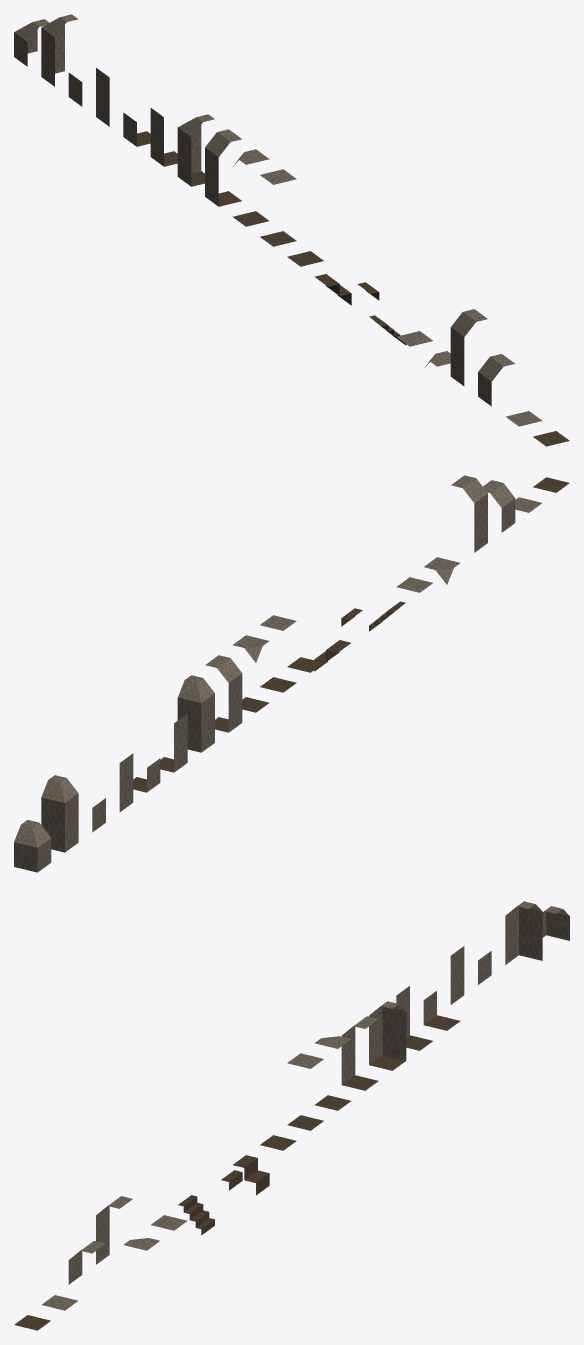
Rendered from tiles.glb.
3 views of the same model, one above another, from view 1: azimuth 30°, elevation 25°; view 2: azimuth 150°, elevation 25°; view 3: azimuth 330°, elevation 25° (orthographic).
Parts seen in each view (by area): view 1: corner-col, corner-col.001, wall&ceiling-col, wall&ceiling-col.002, wall-col, corner-col.002, wall&ceiling-col.003, wallonly-col, floor&ceiling-col, floor&ceilingcorner-col, shortwall-col; view 2: corner-col.001, corner-col, corner-col.002, wall&ceiling-col, wall&ceiling-col.002, wall-col, wall&ceiling-col.003, wallonly-col, floor&ceilingcorner-col, floor&ceiling-col, shortwall-col; view 3: corner-col, corner-col.001, wall&ceiling-col, wall&ceiling-col.002, corner-col.002, wallonly-col, stair3-col, shortwall-col, stair2-col, floor&ceiling-col, floor&ceilingcorner-col, wall-col (+1 smaller).
Boxes of the visible parts, x1,y1,x2,y2 form: corner-col: (177,114,214,186); corner-col.001: (41,14,77,86); wall&ceiling-col: (205,129,241,206); wall&ceiling-col.002: (450,309,487,386); wall-col: (150,108,177,166); corner-col.002: (14,19,49,66); wall&ceiling-col.003: (478,354,514,406); wallonly-col: (96,68,109,126); floor&ceiling-col: (260,169,296,246); floor&ceilingcorner-col: (232,149,269,226); shortwall-col: (123,112,150,146); corner-col.001: (41,775,78,852); corner-col: (177,675,214,752); corner-col.002: (14,820,51,872); wall&ceiling-col: (205,655,242,732); wall&ceiling-col.002: (451,475,487,552); wall-col: (160,713,187,772); wall&ceiling-col.003: (483,480,515,532); wallonly-col: (119,753,133,812); floor&ceilingcorner-col: (232,635,269,712); floor&ceiling-col: (260,615,296,692); shortwall-col: (133,758,160,792); corner-col: (369,1001,406,1070); corner-col.001: (505,901,542,964); wall&ceiling-col: (341,1016,378,1090); wall&ceiling-col.002: (96,1196,132,1264); corner-col.002: (542,906,569,940); wallonly-col: (450,946,464,1004); stair3-col: (178,1195,214,1235); shortwall-col: (423,991,460,1030); stair2-col: (233,1155,269,1195); floor&ceiling-col: (287,1053,323,1130); floor&ceilingcorner-col: (314,1036,350,1110); wall-col: (396,986,432,1050).
Size of the model in its own units: 1.02 by 3.5 by 39.
Materials: 1 (1 with a texture image).
